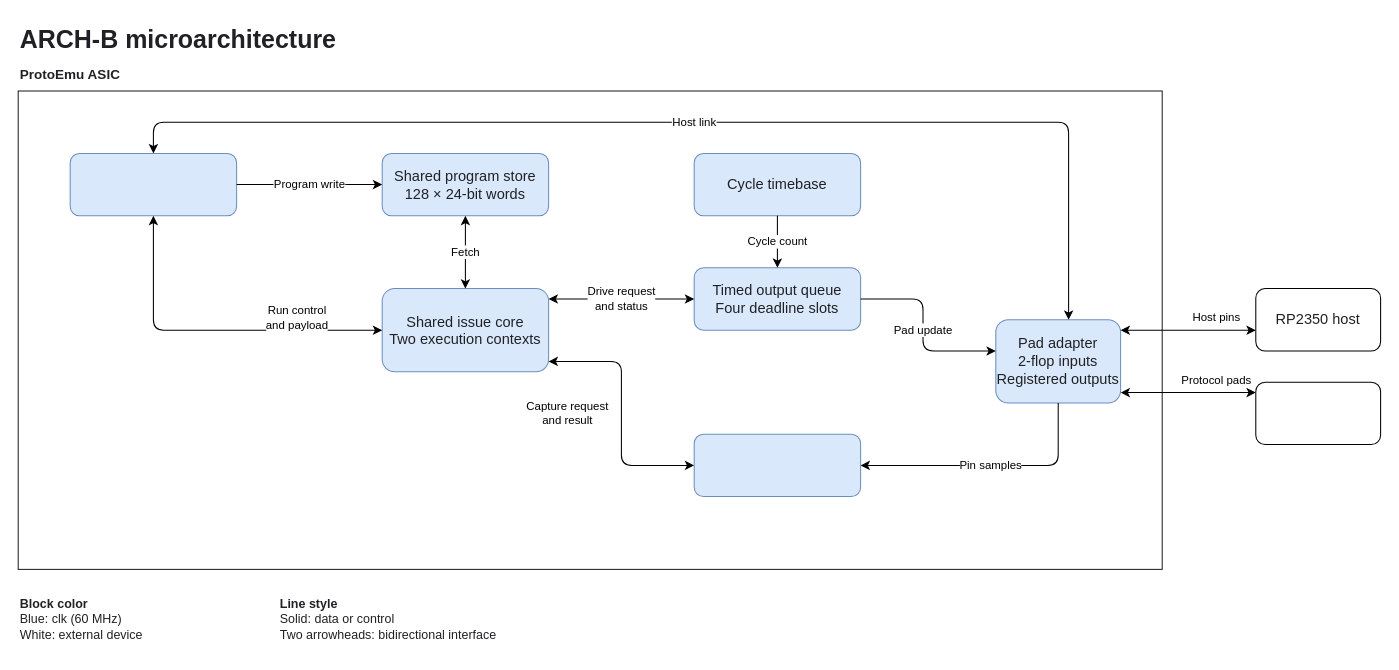
The diagram is 1399 pixels wide and 670 high, and some of its shapes have lost their labels. Each missing label, with the box of its shape:
Input capture One slot per context: (693, 433, 861, 497)
Loader and run control: (69, 152, 237, 216)
Protocol peers: (1255, 381, 1381, 445)
